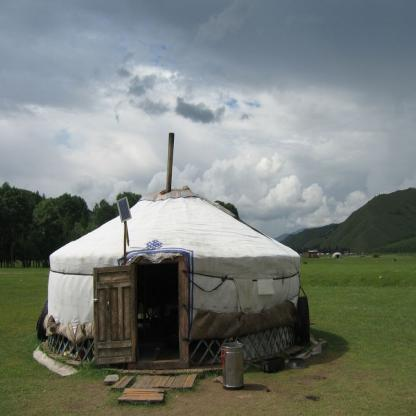Building Outline: (47, 184, 300, 370)
Dont: (116, 196, 132, 265), (221, 342, 244, 390), (296, 297, 311, 344), (36, 299, 47, 342)
Door: (135, 263, 180, 361), (166, 133, 174, 193)
Facade: (50, 250, 295, 348)
Ground Floor: (49, 250, 300, 370)
Roof: (50, 184, 300, 257)
